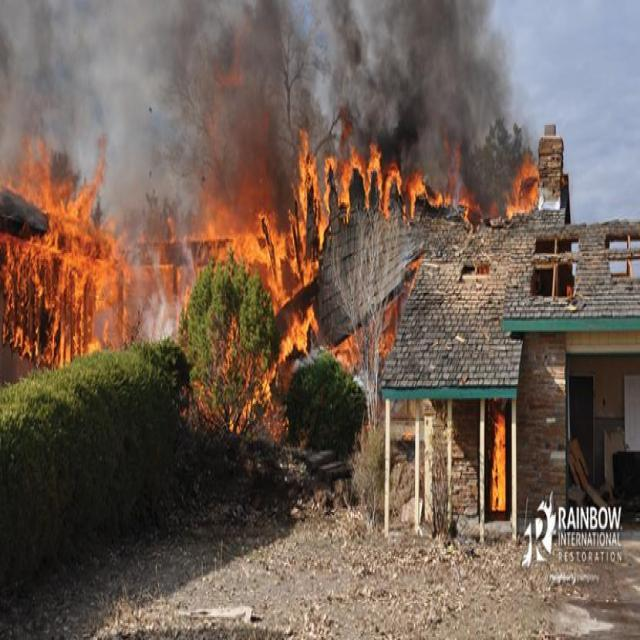Fire: (0, 126, 133, 385), (202, 192, 312, 312), (324, 138, 384, 232), (292, 122, 328, 265), (444, 126, 484, 223), (276, 296, 322, 370), (403, 162, 452, 227), (486, 396, 510, 517), (508, 139, 540, 218), (382, 160, 404, 220)
Smoke: (307, 0, 523, 200), (143, 0, 344, 213), (0, 0, 118, 177), (124, 228, 200, 346)
